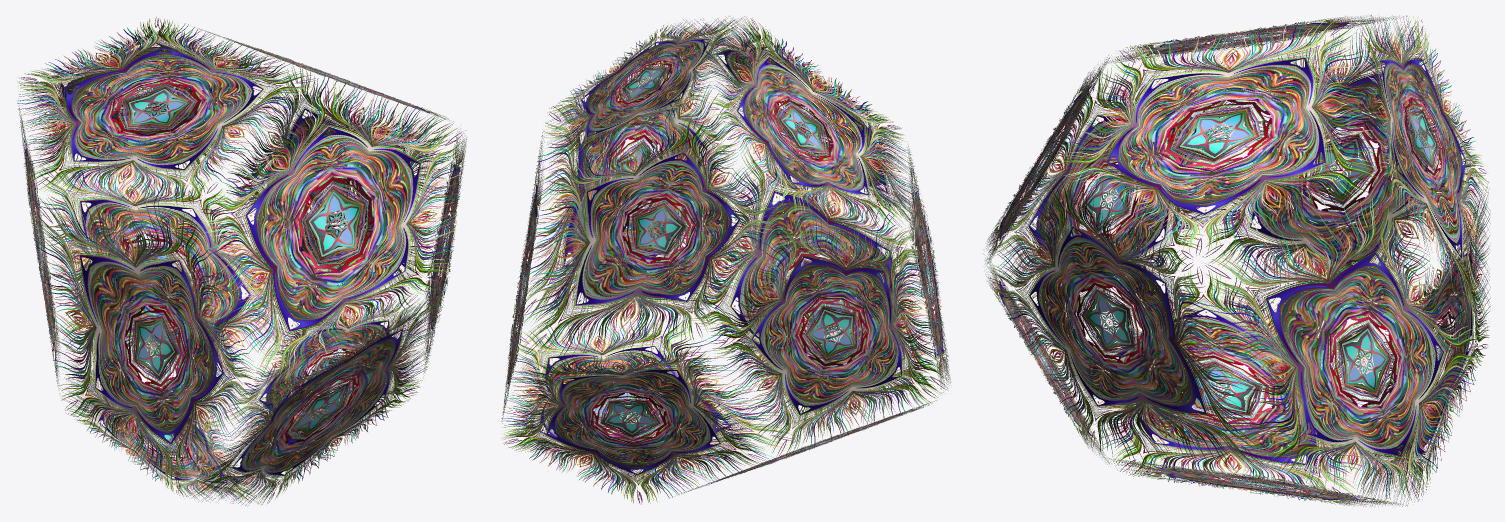
Rendered from Tetartoid13.obj.
The picture shows the model from 3 angles, left to right: view 1: azimuth 30°, elevation 25°; view 2: azimuth 150°, elevation 25°; view 3: azimuth 270°, elevation 25°; orthographic projection. The views are drawn at different scales.
Bounding box in the file's own units: 22 × 22 × 22.
Materials: 1 (1 with a texture image).
